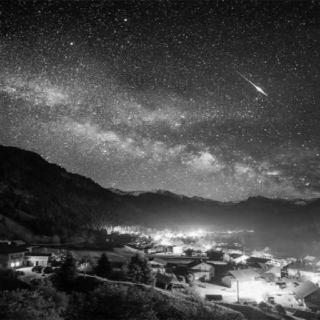other: (149, 225, 221, 257)
